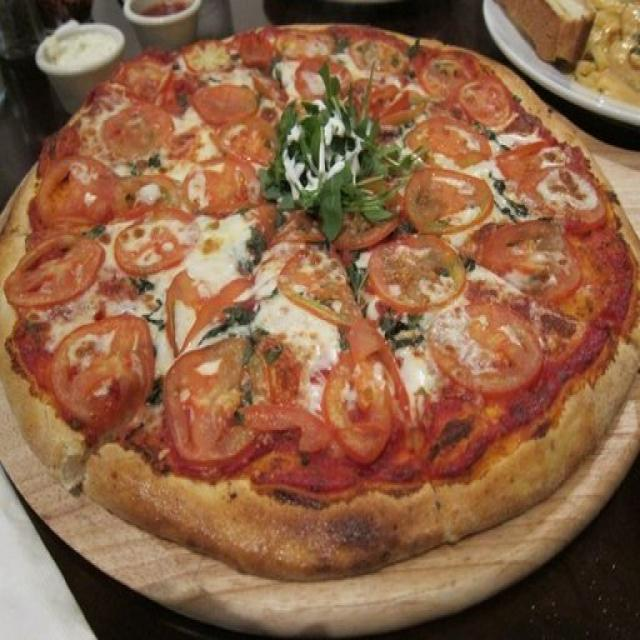Pizza: (0, 25, 640, 582)
Rucola: (276, 96, 404, 236)
Tomato: (166, 337, 266, 475), (46, 314, 149, 438), (428, 302, 540, 395), (336, 342, 408, 457), (499, 139, 594, 221), (5, 231, 105, 306), (487, 230, 578, 307), (167, 275, 251, 353), (369, 242, 458, 312), (290, 248, 360, 330), (40, 153, 116, 226), (410, 166, 483, 236), (348, 323, 408, 400), (118, 216, 192, 278), (402, 125, 492, 167), (189, 163, 253, 216), (253, 407, 324, 453), (110, 109, 163, 154), (192, 84, 255, 120), (293, 54, 345, 94), (118, 178, 178, 212), (419, 64, 467, 102), (470, 74, 504, 126), (350, 38, 404, 70), (228, 122, 270, 161), (238, 38, 280, 67)
